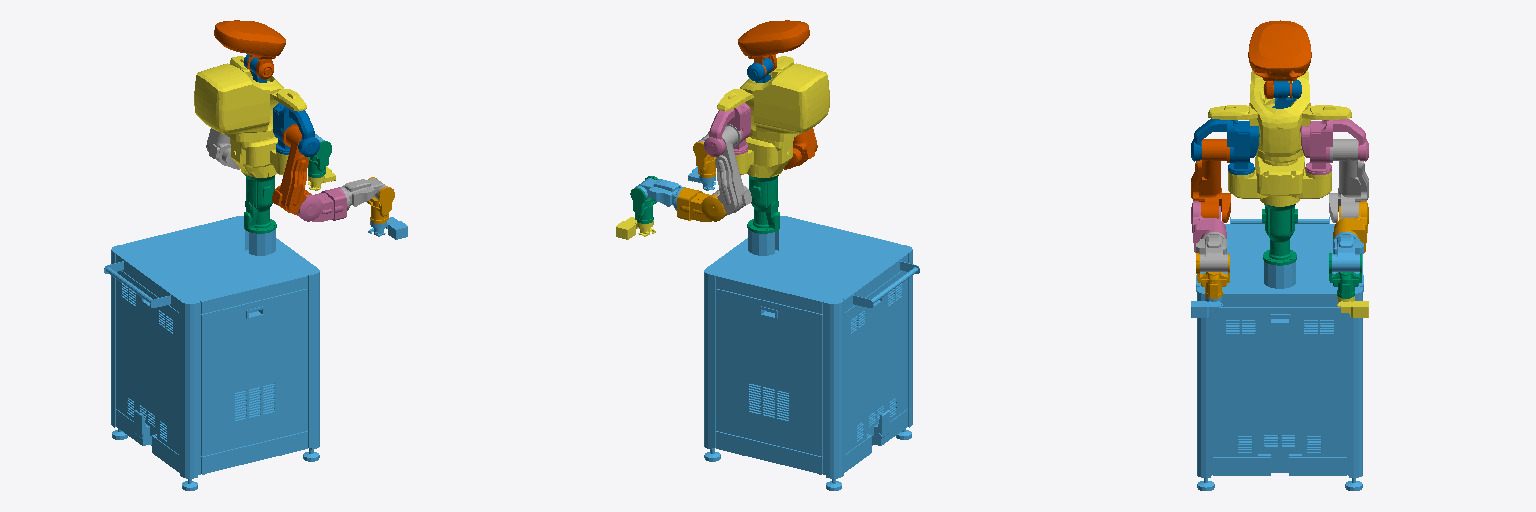
robot.urdf — NextageAOpen:
<?xml version="1.0" ?>
<!-- =================================================================================== -->
<!-- |    This is a newer version of the Nextage robot from Vlad's git repo            | -->
<!-- |    The urdf is compiled from xarco file, which is problematic to pybullet       | -->
<!-- |    This document was autogenerated by xacro from NextageAOpen.urdf.xacro        | -->
<!-- |    EDITING THIS FILE BY HAND IS NOT RECOMMENDED                                 | -->
<!-- |    Note: in this urdf, there are 1 plus joint, 17 in total, "base_to_dummy"     | -->
<!-- =================================================================================== -->
<robot name="NextageAOpen" 
       xmlns:body="http://playerstage.sourceforge.net/gazebo/xmlschema/#body" 
       xmlns:controller="http://playerstage.sourceforge.net/gazebo/xmlschema/#controller" 
       xmlns:gazebo="http://playerstage.sourceforge.net/gazebo/xmlschema/#gz" 
       xmlns:geom="http://playerstage.sourceforge.net/gazebo/xmlschema/#geom" 
       xmlns:interface="http://playerstage.sourceforge.net/gazebo/xmlschema/#interface" 
       xmlns:joint="http://playerstage.sourceforge.net/gazebo/xmlschema/#joint" 
       xmlns:model="http://playerstage.sourceforge.net/gazebo/xmlschema/#model" 
       xmlns:physics="http://playerstage.sourceforge.net/gazebo/xmlschema/#physics" 
       xmlns:renderable="http://playerstage.sourceforge.net/gazebo/xmlschema/#renderable" 
       xmlns:rendering="http://playerstage.sourceforge.net/gazebo/xmlschema/#rendering" 
       xmlns:sensor="http://playerstage.sourceforge.net/gazebo/xmlschema/#sensor" 
       xmlns:xi="http://www.w3.org/2001/xinclude">

  <material name="Black">
    <color rgba="0.0 0.0 0.0 1.0"/>
  </material>
  <material name="Blue">
    <color rgba="0.0 0.0 0.8 1.0"/>
  </material>
  <material name="Green">
    <color rgba="0.0 0.8 0.0 1.0"/>
  </material>
  <material name="LightGrey">
    <color rgba="0.6 0.6 0.6 1.0"/>
  </material>
  <material name="Grey">
    <color rgba="0.4 0.4 0.4 1.0"/>
  </material>
  <material name="DarkGrey">
    <color rgba="0.2 0.2 0.2 1.0"/>
  </material>
  <material name="Red">
    <color rgba="0.8 0.0 0.0 1.0"/>
  </material>
  <material name="White">
    <color rgba="1.0 1.0 1.0 1.0"/>
  </material>

  <link name="base_link"/>

  <joint name="base_to_dummy" type="fixed">
    <parent link="base_link"/>
    <child link="nextage_base"/>
  </joint>

  <link name="nextage_base">
    <visual>
      <origin rpy="0 0 0" xyz="0 0 0"/>
      <geometry>
        <mesh filename="package://nextagea_description/urdf/meshes/BASE_Link_mesh.obj"/>
      </geometry>
    </visual>
    <collision>
      <origin rpy="0 0 0" xyz="-0.19 0 -0.435"/>
      <geometry>
        <box size="0.585 0.585 0.72"/>
      </geometry>
    </collision>
    <collision>
      <origin rpy="0 0 0" xyz="0.0675 0.2575 -0.82"/>
      <geometry>
        <sphere radius="0.03"/>
      </geometry>
    </collision>
    <collision>
      <origin rpy="0 0 0" xyz="0.0675 -0.2575 -0.82"/>
      <geometry>
        <sphere radius="0.03"/>
      </geometry>
    </collision>
    <collision>
      <origin rpy="0 0 0" xyz="-0.4475 0.2575 -0.82"/>
      <geometry>
        <sphere radius="0.03"/>
      </geometry>
    </collision>
    <collision>
      <origin rpy="0 0 0" xyz="-0.4475 -0.2575 -0.82"/>
      <geometry>
        <sphere radius="0.03"/>
      </geometry>
    </collision>
    <inertial>
      <mass value="40"/>
      <origin rpy="0 0 0" xyz="-0.19 0 -0.435"/>
      <inertia ixx="2.86875" ixy="0.0" ixz="0.0" iyy="2.86875" iyz="0.0" izz="2.2815"/>
    </inertial>
  </link>

  <joint name="base_to_waist" type="fixed">
    <parent link="nextage_base"/>
    <child link="WAIST"/>
  </joint>

  <link name="WAIST">
    <visual>
      <origin rpy="0 0 0" xyz="0 0 0"/>
      <geometry>
        <mesh filename="package://nextagea_description/urdf/meshes/WAIST_Link_mesh.obj"/>
      </geometry>
    </visual>
    <collision>
      <origin rpy="0 0 0" xyz="0.0 0 0.098"/>
      <geometry>
        <cylinder length="0.376" radius="0.06"/>
      </geometry>
    </collision>
    <inertial>
      <mass value="5"/>
      <origin rpy="0 0 0" xyz="0 0 0.15"/>
      <inertia ixx="0.05416666666666667" ixy="0.0" ixz="0.0" iyy="0.05416666666666667" iyz="0.0" izz="0.03333333333333334"/>
    </inertial>
  </link>

  <link name="CHEST_JOINT0_Link">
    <visual>
      <origin rpy="0 0 0" xyz="0 0 0"/>
      <geometry>
        <mesh filename="package://nextagea_description/urdf/meshes/CHEST_JOINT0_Link_mesh.obj"/>
      </geometry>
    </visual>
    <collision>
      <origin rpy="0 0 0" xyz="0 0 0.1575"/>
      <geometry>
        <cylinder length="0.385" radius="0.08"/>
      </geometry>
    </collision>
    <collision>
      <origin rpy="0 0 0" xyz="0.04 0.135 0.0423"/>
      <geometry>
        <cylinder length="0.09" radius="0.05"/>
      </geometry>
    </collision>
    <collision>
      <origin rpy="0 0 0" xyz="0.04 -0.135 0.0423"/>
      <geometry>
        <cylinder length="0.09" radius="0.05"/>
      </geometry>
    </collision>
    <collision>
      <origin rpy="0 0 0" xyz="0 0 0.055"/>
      <geometry>
        <box size="0.23 0.18 0.12"/>
      </geometry>
    </collision>
    <collision>
      <origin rpy="0 0 0" xyz="-0.04 0 0.2325"/>
      <geometry>
        <box size="0.25 0.18 0.245"/>
      </geometry>
    </collision>
    <collision>
      <origin rpy="0 0 0" xyz="-0.1525 0 0.279"/>
      <geometry>
        <box size="0.17 0.29 0.225"/>
      </geometry>
    </collision>
    <collision>
      <origin rpy="0 0 0" xyz="0.03 0 0.315"/>
      <geometry>
        <box size="0.085 0.5 0.0365"/>
      </geometry>
    </collision>
    <inertial>
      <mass value="10.0"/>
      <origin rpy="0 -0 0" xyz="0 0 0.2"/>
      <inertia ixx="0.12708333333333333" ixy="0.0" ixz="0.0" iyy="0.12708333333333333" iyz="0.0" izz="0.10416666666666667"/>
    </inertial>
  </link>

  <link name="HEAD_JOINT0_Link">
    <visual>
      <origin rpy="0 0 0" xyz="0 0 0"/>
      <geometry>
        <mesh filename="package://nextagea_description/urdf/meshes/HEAD_JOINT0_Link_mesh.obj"/>
      </geometry>
    </visual>
    <collision>
      <origin rpy="1.57079 0 0" xyz="0 0.01 0.08"/>
      <geometry>
        <cylinder length="0.135" radius="0.035"/>
      </geometry>
    </collision>
    <inertial>
      <mass value="0.317929"/>
      <origin rpy="0 -0 0" xyz="0 0.00547848 0"/>
      <inertia ixx="0.0005298816666666668" ixy="0.0" ixz="0.0" iyy="0.0005298816666666668" iyz="0.0" izz="0.0005298816666666668"/>
    </inertial>
  </link>

  <link name="HEAD_JOINT1_Link">
    <visual>
      <origin rpy="0 0 0" xyz="0 0 0"/>
      <geometry>
        <mesh filename="package://nextagea_description/urdf/meshes/HEAD_JOINT1_Link_mesh.obj"/>
      </geometry>
    </visual>
    <collision>
      <origin rpy="0 0.26 0" xyz="-0.05 0 0.12"/>
      <geometry>
        <box size="0.27 0.22 0.115"/>
      </geometry>
    </collision>
    <inertial>
      <mass value="0.4"/>
      <origin rpy="0 0.26 0" xyz="-0.05 0 0.12"/>
      <inertia ixx="0.002054166666666667" ixy="0.0" ixz="0.0" iyy="0.0028708333333333333" iyz="0.0" izz="0.004043333333333334"/>
    </inertial>
  </link>

  <link name="LARM_JOINT0_Link">
    <visual>
      <origin rpy="0 0 0" xyz="0 0 0"/>
      <geometry>
        <mesh filename="package://nextagea_description/urdf/meshes/LARM_JOINT0_Link_mesh.obj"/>
      </geometry>
    </visual>
    <collision>
      <origin rpy="0 0 0" xyz="0 0.00775 0.095"/>
      <geometry>
        <box size="0.1 0.0815 0.19"/>
      </geometry>
    </collision>
    <collision>
      <origin rpy="1.57079 0 0" xyz="0 0.0875 0.066"/>
      <geometry>
        <cylinder length="0.175" radius="0.042"/>
      </geometry>
    </collision>
    <collision>
      <origin rpy="-0.7 0 0" xyz="0 0.125 0.145"/>
      <geometry>
        <box size="0.048 0.1 0.035"/>
      </geometry>
    </collision>
    <inertial>
      <mass value="1.32626"/>
      <origin rpy="0 -0 0" xyz="0.0 0.05 0.05"/>
      <inertia ixx="0.00207537" ixy="0.00011276" ixz="8.927e-05" iyy="0.00240295" iyz="-4.57e-05" izz="0.00141912"/>
    </inertial>
  </link>

  <link name="LARM_JOINT1_Link">
    <visual>
      <origin rpy="0 0 0" xyz="0 0 0"/>
      <geometry>
        <mesh filename="package://nextagea_description/urdf/meshes/LARM_JOINT1_Link_mesh.obj"/>
      </geometry>
    </visual>
    <collision>
      <origin rpy="0 0.3 0" xyz="-0.043 0.12 -0.13"/>
      <geometry>
        <box size="0.08 0.11 0.28"/>
      </geometry>
    </collision>
    <collision>
      <origin rpy="0 0.45 0" xyz="-0.03 0.0518 -0.236"/>
      <geometry>
        <box size="0.122 0.0338 0.062"/>
      </geometry>
    </collision>
    <inertial>
      <mass value="1.14898"/>
      <origin rpy="0 -0 0" xyz="-0.04 0.1 -0.12"/>
      <inertia ixx="0.0154168" ixy="9.95417e-07" ixz="3.38147e-06" iyy="0.0147117" iyz="0.00213719" izz="0.0012658"/>
    </inertial>
  </link>

  <link name="LARM_JOINT2_Link">
    <visual>
      <origin rpy="0 0 0" xyz="0 0 0"/>
      <geometry>
        <mesh filename="package://nextagea_description/urdf/meshes/LARM_JOINT2_Link_mesh.obj"/>
      </geometry>
    </visual>
    <collision>
      <origin rpy="1.57079 0 0" xyz="0 0.025 0"/>
      <geometry>
        <cylinder length="0.11" radius="0.049"/>
      </geometry>
    </collision>
    <collision>
      <origin rpy="0 0 0" xyz="0.0945 0.015 -0.03"/>
      <geometry>
        <box size="0.119 0.125 0.1"/>
      </geometry>
    </collision>
    <collision>
      <origin rpy="0 1.57079 0" xyz="0.17 0 -0.03"/>
      <geometry>
        <cylinder length="0.04" radius="0.047"/>
      </geometry>
    </collision>
    <inertial>
      <mass value="0.577518"/>
      <origin rpy="0 -0 0" xyz="0.1 0.01167107 -0.04"/>
      <inertia ixx="0.00143966" ixy="-3e-07" ixz="1.2e-06" iyy="0.00141763" iyz="-7.596e-05" izz="0.0001972"/>
    </inertial>
  </link>

  <link name="LARM_JOINT3_Link">
    <visual>
      <origin rpy="0 0 0" xyz="0 0 0"/>
      <geometry>
        <mesh filename="package://nextagea_description/urdf/meshes/LARM_JOINT3_Link_mesh.obj"/>
      </geometry>
    </visual>
    <collision>
      <origin rpy="1.57079 0 0" xyz="0.1495 -0.003 0"/>
      <geometry>
        <cylinder length="0.12" radius="0.035"/>
      </geometry>
    </collision>
    <collision>
      <origin rpy="0 1.57079 0" xyz="0.075 0.0 0.018"/>
      <geometry>
        <cylinder length="0.15" radius="0.04"/>
      </geometry>
    </collision>
    <collision>
      <origin rpy="0 0 0" xyz="0.0585 0.01 0.0185"/>
      <geometry>
        <box size="0.093 0.112 0.037"/>
      </geometry>
    </collision>
    <inertial>
      <mass value="0.457418"/>
      <origin rpy="0 -0 0" xyz="0.1 -0.00395812 -0.00273"/>
      <inertia ixx="0.00069205" ixy="3e-08" ixz="5.2e-07" iyy="0.00068903" iyz="-1.915e-05" izz="0.00013509"/>
    </inertial>
  </link>

  <link name="LARM_JOINT4_Link">
    <visual>
      <origin rpy="0 0 0" xyz="0 0 0"/>
      <geometry>
        <mesh filename="package://nextagea_description/urdf/meshes/LARM_JOINT4_Link_mesh.obj"/>
      </geometry>
    </visual>
    <collision>
      <origin rpy="0 0 0" xyz="0 -0.002 -0.06"/>
      <geometry>
        <box size="0.04 0.118 0.06"/>
      </geometry>
    </collision>
    <collision>
      <origin rpy="0 0 0" xyz="0 0 -0.08"/>
      <geometry>
        <cylinder length="0.08" radius="0.037"/>
      </geometry>
    </collision>
    <inertial>
      <mass value="0.418434"/>
      <origin rpy="0 -0 0" xyz="0.00243131 0.00379733 -0.0577036"/>
      <inertia ixx="0.00052016" ixy="1.69e-06" ixz="7.9e-06" iyy="0.00050569" iyz="-5.377e-05" izz="0.00014004"/>
    </inertial>
  </link>

  <link name="LARM_JOINT5_Link">
    <visual>
      <origin rpy="0 0 0" xyz="0 0 0"/>
      <geometry>
        <mesh filename="package://nextagea_description/urdf/meshes/LARM_JOINT5_Link_mesh.obj"/>
      </geometry>
    </visual>
    <visual>
      <origin rpy="0 0 0" xyz="0 0 0"/>
      <geometry>
        <mesh filename="package://nextagea_description/urdf/meshes/L_CAM.obj"/>
      </geometry>
    </visual>
    <collision>
      <origin rpy="0 0 0" xyz="0 0 -0.02"/>
      <geometry>
        <cylinder length="0.07" radius="0.037"/>
      </geometry>
    </collision>
    <collision>
      <origin rpy="0 0 0" xyz="0.0525 0.029 -0.02"/>
      <geometry>
        <box size="0.057 0.106 0.042"/>
      </geometry>
    </collision>
    <inertial>
      <mass value="1.05156"/>
      <origin rpy="0 -0 0" xyz="0.0 0.0 -0.08"/>
      <inertia ixx="0.00194072" ixy="1.1e-07" ixz="-0.00042482" iyy="0.00209392" iyz="1.2e-07" izz="0.00035788"/>
    </inertial>
  </link>

  <link name="RARM_JOINT0_Link">
    <visual>
      <origin rpy="0 0 0" xyz="0 0 0"/>
      <geometry>
        <mesh filename="package://nextagea_description/urdf/meshes/RARM_JOINT0_Link_mesh.obj"/>
      </geometry>
    </visual>
    <collision>
      <origin rpy="0 0 0" xyz="0 -0.00775 0.095"/>
      <geometry>
        <box size="0.1 0.0815 0.19"/>
      </geometry>
    </collision>
    <collision>
      <origin rpy="1.57079 0 0" xyz="0 -0.0875 0.066"/>
      <geometry>
        <cylinder length="0.175" radius="0.042"/>
      </geometry>
    </collision>
    <collision>
      <origin rpy="0.7 0 0" xyz="0 -0.125 0.145"/>
      <geometry>
        <box size="0.048 0.1 0.035"/>
      </geometry>
    </collision>
    <inertial>
      <mass value="1.32626"/>
      <origin rpy="0 -0 0" xyz="0.0 -0.05 0.05"/>
      <inertia ixx="0.00207537" ixy="-0.00011276" ixz="8.927e-05" iyy="0.00240295" iyz="4.57e-05" izz="0.00141912"/>
    </inertial>
  </link>

  <link name="RARM_JOINT1_Link">
    <visual>
      <origin rpy="0 0 0" xyz="0 0 0"/>
      <geometry>
        <mesh filename="package://nextagea_description/urdf/meshes/RARM_JOINT1_Link_mesh.obj"/>
      </geometry>
    </visual>
    <collision>
      <origin rpy="0 0.3 0" xyz="-0.043 -0.12 -0.13"/>
      <geometry>
        <box size="0.08 0.11 0.28"/>
      </geometry>
    </collision>
    <collision>
      <origin rpy="0 0.45 0" xyz="-0.03 -0.0518 -0.236"/>
      <geometry>
        <box size="0.122 0.0338 0.062"/>
      </geometry>
    </collision>
    <inertial>
      <mass value="1.14898"/>
      <origin rpy="0 -0 0" xyz="-0.04 -0.1 -0.12"/>
      <inertia ixx="0.0154168" ixy="-9.95417e-07" ixz="3.38147e-06" iyy="0.0147117" iyz="-0.00213719" izz="0.0012658"/>
    </inertial>
  </link>

  <link name="RARM_JOINT2_Link">
    <visual>
      <origin rpy="0 0 0" xyz="0 0 0"/>
      <geometry>
        <mesh filename="package://nextagea_description/urdf/meshes/RARM_JOINT2_Link_mesh.obj"/>
      </geometry>
    </visual>
    <collision>
      <origin rpy="1.57079 0 0" xyz="0 -0.025 0"/>
      <geometry>
        <cylinder length="0.11" radius="0.049"/>
      </geometry>
    </collision>
    <collision>
      <origin rpy="0 0 0" xyz="0.0945 -0.015 -0.03"/>
      <geometry>
        <box size="0.119 0.125 0.1"/>
      </geometry>
    </collision>
    <collision>
      <origin rpy="0 1.57079 0" xyz="0.17 0 -0.03"/>
      <geometry>
        <cylinder length="0.04" radius="0.047"/>
      </geometry>
    </collision>
    <inertial>
      <mass value="0.577518"/>
      <origin rpy="0 -0 0" xyz="0.1 -0.01167107 -0.04"/>
      <inertia ixx="0.00143966" ixy="3e-07" ixz="1.2e-06" iyy="0.00141763" iyz="7.596e-05" izz="0.0001972"/>
    </inertial>
  </link>

  <link name="RARM_JOINT3_Link">
    <visual>
      <origin rpy="0 0 0" xyz="0 0 0"/>
      <geometry>
        <mesh filename="package://nextagea_description/urdf/meshes/RARM_JOINT3_Link_mesh.obj"/>
      </geometry>
    </visual>
    <collision>
      <origin rpy="1.57079 0 0" xyz="0.1495 -0.003 0"/>
      <geometry>
        <cylinder length="0.12" radius="0.035"/>
      </geometry>
    </collision>
    <collision>
      <origin rpy="0 1.57079 0" xyz="0.075 0.0 0.018"/>
      <geometry>
        <cylinder length="0.15" radius="0.04"/>
      </geometry>
    </collision>
    <collision>
      <origin rpy="0 0 0" xyz="0.0585 -0.01 0.0185"/>
      <geometry>
        <box size="0.093 0.112 0.037"/>
      </geometry>
    </collision>
    <inertial>
      <mass value="0.457418"/>
      <origin rpy="0 -0 0" xyz="0.1 0.00395812 -0.00273"/>
      <inertia ixx="0.00069205" ixy="-3e-08" ixz="5.2e-07" iyy="0.00068903" iyz="1.915e-05" izz="0.00013509"/>
    </inertial>
  </link>

  <link name="RARM_JOINT4_Link">
    <visual>
      <origin rpy="0 0 0" xyz="0 0 0"/>
      <geometry>
        <mesh filename="package://nextagea_description/urdf/meshes/RARM_JOINT4_Link_mesh.obj"/>
      </geometry>
    </visual>
    <collision>
      <origin rpy="0 0 0" xyz="0 -0.002 -0.06"/>
      <geometry>
        <box size="0.04 0.118 0.06"/>
      </geometry>
    </collision>
    <collision>
      <origin rpy="0 0 0" xyz="0 0 -0.08"/>
      <geometry>
        <cylinder length="0.08" radius="0.037"/>
      </geometry>
    </collision>
    <inertial>
      <mass value="0.418434"/>
      <origin rpy="0 -0 0" xyz="0.00243131 -0.00379733 -0.0577036"/>
      <inertia ixx="0.00052016" ixy="-1.69e-06" ixz="7.9e-06" iyy="0.00050569" iyz="5.377e-05" izz="0.00014004"/>
    </inertial>
  </link>

  <link name="RARM_JOINT5_Link">
    <visual>
      <origin rpy="0 0 0" xyz="0 0 0"/>
      <geometry>
        <mesh filename="package://nextagea_description/urdf/meshes/RARM_JOINT5_Link_mesh.obj"/>
      </geometry>
    </visual>
    <visual>
      <origin rpy="0 0 0" xyz="0 0 0"/>
      <geometry>
        <mesh filename="package://nextagea_description/urdf/meshes/R_CAM.obj"/>
      </geometry>
    </visual>
    <collision>
      <origin rpy="0 0 0" xyz="0 0 -0.02"/>
      <geometry>
        <cylinder length="0.07" radius="0.037"/>
      </geometry>
    </collision>
    <collision>
      <origin rpy="0 0 0" xyz="0.0525 -0.029 -0.02"/>
      <geometry>
        <box size="0.057 0.106 0.042"/>
      </geometry>
    </collision>
    <inertial>
      <mass value="1.05156"/>
      <origin rpy="0 -0 0" xyz="0.0 0.0 -0.08"/>
      <inertia ixx="0.00194072" ixy="-1.1e-07" ixz="-0.00042482" iyy="0.00209392" iyz="-1.2e-07" izz="0.00035788"/>
    </inertial>
  </link>

  <joint name="CHEST_JOINT0" type="revolute">
    <parent link="WAIST"/>
    <child link="CHEST_JOINT0_Link"/>
    <origin rpy="0 0 0" xyz="0 0 0.267"/>
    <axis xyz="0 0 1"/>
    <limit effort="100" lower="-3.14159" upper="3.14159" velocity="1.0"/>
    <dynamics damping="0.2" friction="0"/>
  </joint>

  <joint name="HEAD_JOINT0" type="revolute">
    <parent link="CHEST_JOINT0_Link"/>
    <child link="HEAD_JOINT0_Link"/>
    <origin rpy="0 0 0" xyz="0 0 0.302"/>
    <axis xyz="0 0 1"/>
    <limit effort="100" lower="-1.22173" upper="1.22173" velocity="1.0"/>
  </joint>

  <joint name="HEAD_JOINT1" type="revolute">
    <parent link="HEAD_JOINT0_Link"/>
    <child link="HEAD_JOINT1_Link"/>
    <origin rpy="0 0 0" xyz="0 0 0.08"/>
    <axis xyz="0 1 0"/>
    <limit effort="100" lower="-0.401425" upper="1.308997" velocity="1.0"/>
  </joint>

  <joint name="LARM_JOINT0" type="revolute">
    <parent link="CHEST_JOINT0_Link"/>
    <child link="LARM_JOINT0_Link"/>
    <origin rpy="0 0 0" xyz="0.04 0.135 0.1015"/>
    <axis xyz="0 0 1"/>
    <limit effort="150" lower="-1.5707963" upper="1.5707963" velocity="1.0"/>
    <dynamics damping="0.5" friction="0.0"/>
  </joint>

  <joint name="LARM_JOINT1" type="revolute">
    <parent link="LARM_JOINT0_Link"/>
    <child link="LARM_JOINT1_Link"/>
    <origin rpy="0 0 0" xyz="0 0 0.066"/>
    <axis xyz="0 1 0"/>
    <limit effort="150" lower="-2.44346" upper="1.0471975" velocity="1.0"/>
    <dynamics damping="0.5" friction="0.0"/>
  </joint>

  <joint name="LARM_JOINT2" type="revolute">
    <parent link="LARM_JOINT1_Link"/>
    <child link="LARM_JOINT2_Link"/>
    <origin rpy="0 0 0" xyz="0 0.095 -0.25"/>
    <axis xyz="0 1 0"/>
    <limit effort="150" lower="-1.22173" upper="1.5707963" velocity="1.0"/>
    <dynamics damping="0.5" friction="0.0"/>
  </joint>
  
  <joint name="LARM_JOINT3" type="revolute">
    <parent link="LARM_JOINT2_Link"/>
    <child link="LARM_JOINT3_Link"/>
    <origin rpy="0 0 0" xyz="0.1805 0 -0.03"/>
    <axis xyz="1 0 0"/>
    <limit effort="150" lower="-3.1415926" upper="1.7453292" velocity="1.0"/>
    <dynamics damping="0.5" friction="0.0"/>
  </joint>

  <joint name="LARM_JOINT4" type="revolute">
    <parent link="LARM_JOINT3_Link"/>
    <child link="LARM_JOINT4_Link"/>
    <origin rpy="0 0 0" xyz="0.1495 0 0"/>
    <axis xyz="0 1 0"/>
    <limit effort="150" lower="-3.57792" upper="1.134464" velocity="1.0"/>
    <dynamics damping="0.5" friction="0.0"/>
  </joint>

  <joint name="LARM_JOINT5" type="revolute">
    <parent link="LARM_JOINT4_Link"/>
    <child link="LARM_JOINT5_Link"/>
    <origin rpy="0 0 0" xyz="0 0 -0.1335"/>
    <axis xyz="0 0 1"/>
    <limit effort="150" lower="-2.7123889" upper="2.7123889" velocity="1.0"/>
    <dynamics damping="0.5" friction="0.0"/>
  </joint>

  <joint name="RARM_JOINT0" type="revolute">
    <parent link="CHEST_JOINT0_Link"/>
    <child link="RARM_JOINT0_Link"/>
    <origin rpy="0 0 0" xyz="0.04 -0.135 0.1015"/>
    <axis xyz="0 0 1"/>
    <limit effort="150" lower="-1.570796" upper="1.570796" velocity="1.0"/>
    <dynamics damping="0.5" friction="0.0"/>
  </joint>

  <joint name="RARM_JOINT1" type="revolute">
    <parent link="RARM_JOINT0_Link"/>
    <child link="RARM_JOINT1_Link"/>
    <origin rpy="0 0 0" xyz="0 0 0.066"/>
    <axis xyz="0 1 0"/>
    <limit effort="150" lower="-2.44346" upper="1.047197" velocity="1.0"/>
    <dynamics damping="0.5" friction="0.0"/>
  </joint>

  <joint name="RARM_JOINT2" type="revolute">
    <parent link="RARM_JOINT1_Link"/>
    <child link="RARM_JOINT2_Link"/>
    <origin rpy="0 0 0" xyz="0 -0.095 -0.25"/>
    <axis xyz="0 1 0"/>
    <limit effort="150" lower="-1.22173" upper="1.570796" velocity="1.0"/>
    <dynamics damping="0.5" friction="0.0"/>
  </joint>

  <joint name="RARM_JOINT3" type="revolute">
    <parent link="RARM_JOINT2_Link"/>
    <child link="RARM_JOINT3_Link"/>
    <origin rpy="0 0 0" xyz="0.1805 0 -0.03"/>
    <axis xyz="1 0 0"/>
    <limit effort="150" lower="-1.74532" upper="3.141592" velocity="1.0"/>
    <dynamics damping="0.5" friction="0.0"/>
  </joint>

  <joint name="RARM_JOINT4" type="revolute">
    <parent link="RARM_JOINT3_Link"/>
    <child link="RARM_JOINT4_Link"/>
    <origin rpy="0 0 0" xyz="0.1495 0 0"/>
    <axis xyz="0 1 0"/>
    <limit effort="150" lower="-3.5779" upper="1.134464" velocity="1.0"/>
    <dynamics damping="0.5" friction="0.0"/>
  </joint>

  <joint name="RARM_JOINT5" type="revolute">
    <parent link="RARM_JOINT4_Link"/>
    <child link="RARM_JOINT5_Link"/>
    <origin rpy="0 0 0" xyz="0 0 -0.1335"/>
    <axis xyz="0 0 1"/>
    <limit effort="150" lower="-2.712388" upper="2.712388" velocity="1.0"/>
    <dynamics damping="0.5" friction="0.0"/>
  </joint>

</robot>

--- Render facts (derived) ---
3 views of the same robot in one strip: view 1: azimuth 30°, elevation 25°; view 2: azimuth 150°, elevation 25°; view 3: azimuth 270°, elevation 25° (orthographic).
Robot: NextageAOpen — 18 links, 17 joints (15 revolute, 2 fixed); root link base_link; default pose: all joints at 0.
Visible links, largest first — view 1: nextage_base, CHEST_JOINT0_Link, HEAD_JOINT1_Link, RARM_JOINT1_Link, WAIST, RARM_JOINT0_Link, RARM_JOINT2_Link, RARM_JOINT3_Link, LARM_JOINT1_Link, RARM_JOINT4_Link, LARM_JOINT4_Link, RARM_JOINT5_Link; view 2: nextage_base, CHEST_JOINT0_Link, HEAD_JOINT1_Link, LARM_JOINT1_Link, WAIST, LARM_JOINT0_Link, LARM_JOINT2_Link, LARM_JOINT3_Link, RARM_JOINT1_Link, LARM_JOINT4_Link, RARM_JOINT4_Link, LARM_JOINT5_Link; view 3: nextage_base, CHEST_JOINT0_Link, HEAD_JOINT1_Link, LARM_JOINT1_Link, RARM_JOINT1_Link, LARM_JOINT0_Link, RARM_JOINT0_Link, WAIST, LARM_JOINT3_Link, RARM_JOINT3_Link, LARM_JOINT2_Link, RARM_JOINT2_Link (+3 smaller).
Link boxes in pixels (bbox=[...]): nextage_base: bbox=[104, 216, 319, 490]; CHEST_JOINT0_Link: bbox=[194, 56, 306, 177]; HEAD_JOINT1_Link: bbox=[214, 20, 285, 79]; RARM_JOINT1_Link: bbox=[272, 124, 311, 215]; WAIST: bbox=[244, 175, 276, 233]; RARM_JOINT0_Link: bbox=[273, 103, 319, 156]; RARM_JOINT2_Link: bbox=[297, 187, 346, 221]; RARM_JOINT3_Link: bbox=[340, 178, 387, 210]; LARM_JOINT1_Link: bbox=[206, 128, 239, 169]; RARM_JOINT4_Link: bbox=[367, 177, 394, 223]; LARM_JOINT4_Link: bbox=[308, 141, 331, 177]; RARM_JOINT5_Link: bbox=[368, 217, 407, 239]; nextage_base: bbox=[704, 216, 919, 490]; CHEST_JOINT0_Link: bbox=[717, 56, 829, 177]; HEAD_JOINT1_Link: bbox=[738, 20, 809, 75]; LARM_JOINT1_Link: bbox=[712, 124, 751, 215]; WAIST: bbox=[747, 175, 779, 233]; LARM_JOINT0_Link: bbox=[704, 103, 750, 156]; LARM_JOINT2_Link: bbox=[677, 187, 726, 221]; LARM_JOINT3_Link: bbox=[635, 178, 683, 210]; RARM_JOINT1_Link: bbox=[784, 128, 817, 169]; LARM_JOINT4_Link: bbox=[630, 176, 658, 223]; RARM_JOINT4_Link: bbox=[693, 132, 715, 177]; LARM_JOINT5_Link: bbox=[616, 217, 655, 239]; nextage_base: bbox=[1196, 217, 1363, 490]; CHEST_JOINT0_Link: bbox=[1208, 70, 1351, 206]; HEAD_JOINT1_Link: bbox=[1248, 20, 1311, 98]; LARM_JOINT1_Link: bbox=[1329, 139, 1368, 222]; RARM_JOINT1_Link: bbox=[1191, 139, 1230, 222]; LARM_JOINT0_Link: bbox=[1300, 119, 1368, 174]; RARM_JOINT0_Link: bbox=[1191, 119, 1259, 174]; WAIST: bbox=[1262, 204, 1297, 265]; LARM_JOINT3_Link: bbox=[1332, 232, 1363, 271]; RARM_JOINT3_Link: bbox=[1196, 232, 1227, 271]; LARM_JOINT2_Link: bbox=[1333, 201, 1368, 252]; RARM_JOINT2_Link: bbox=[1191, 201, 1226, 252].
Bounding box of the posed robot: 1.02 × 0.622 × 1.69 m (x, y, z).
Meshes: 19 distinct files referenced, 19 mesh visuals loaded (19 OBJ).
